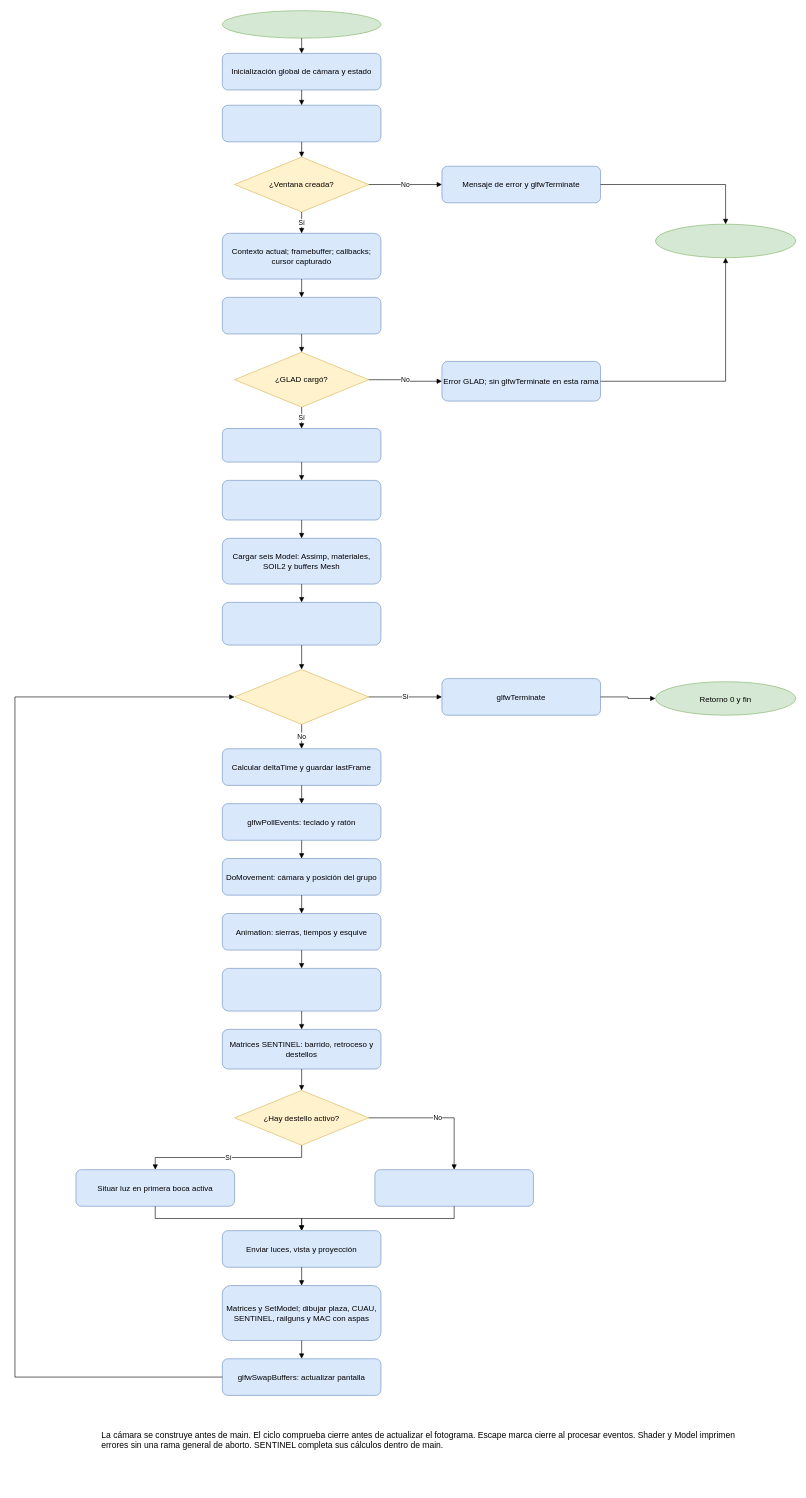
The diagram is 806 pixels wide and 1498 high, and some of its shapes have lost their labels. Here are the shapes that lost their labels. From the top down, the box of each, then its label:
(222, 10, 381, 38): Inicio
(222, 105, 381, 142): glfwInit y crear ventana
(655, 224, 796, 258): Retorno EXIT_FAILURE
(222, 297, 381, 334): Inicializar funciones OpenGL con GLAD
(222, 428, 381, 462): Configurar viewport
(222, 480, 381, 520): Cargar, compilar y enlazar lighting.vs y lighting.frag
(222, 602, 381, 645): Activar shader; asignaciones iniciales; construir proyección
(234, 669, 369, 724): ¿Se solicitó cierre?
(222, 968, 381, 1011): Limpiar color y profundidad; habilitar profundidad; usar shader
(374, 1169, 533, 1206): Enviar intensidades puntuales cero
